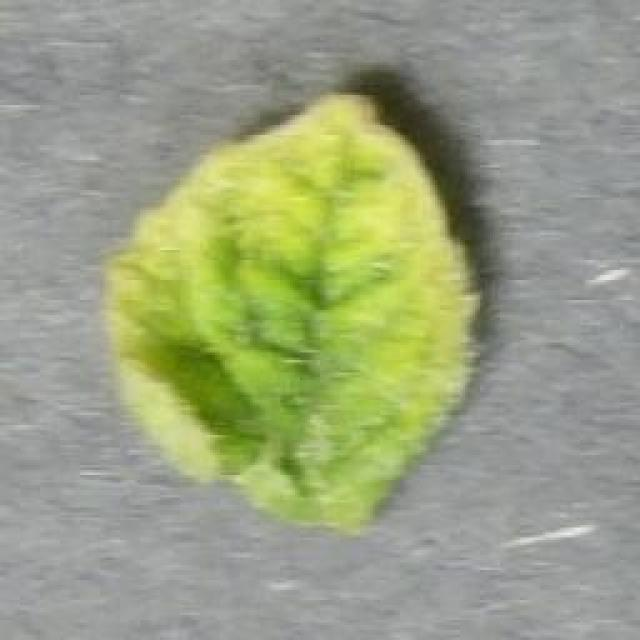Tomato yellow virus leaf: (99, 85, 481, 523)
